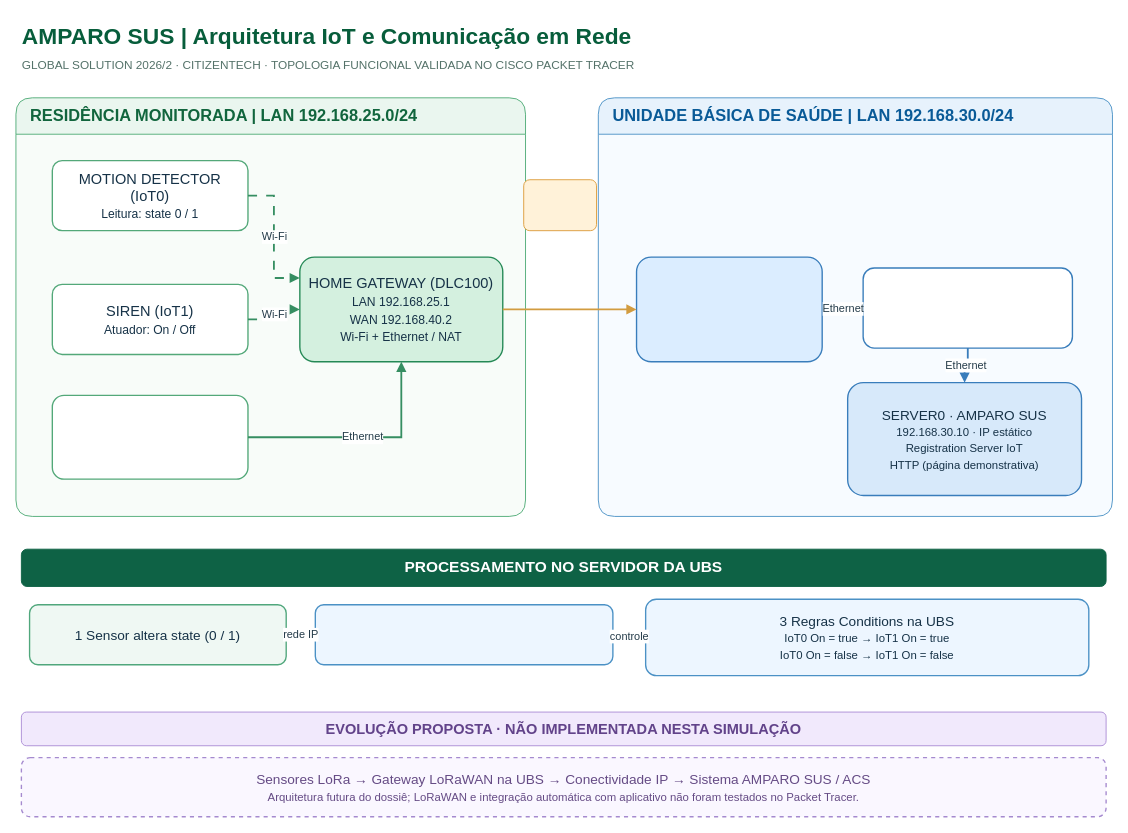
The diagram is 1128 pixels wide and 833 high, and some of its shapes have lost their labels. The shapes that lost their labels are listed below. From the top down, each one's centre as x and y in pixels, then its label:
point (560, 205): ENLACE IP 192.168.40.0/24
point (728, 309): ROUTER0 (Cisco 2911) Gi0/1: 192.168.40.1 Gi0/0: 192.168.30.1
point (967, 307): SWITCH0 (Cisco 2960) Rede Ethernet da UBS
point (149, 436): LAPTOP0 192.168.25.102 · DHCP Web Browser / testes ICMP
point (463, 634): 2 Estado registrado e consultado Registration Server · 192.168.30.10
